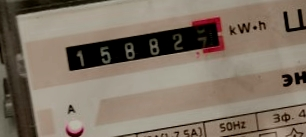1: (72, 47, 87, 67)
2: (170, 31, 184, 51)
5: (97, 43, 111, 65)
7: (195, 34, 208, 50)
8: (146, 35, 161, 58), (121, 39, 136, 61)
screen: (55, 10, 235, 80)
